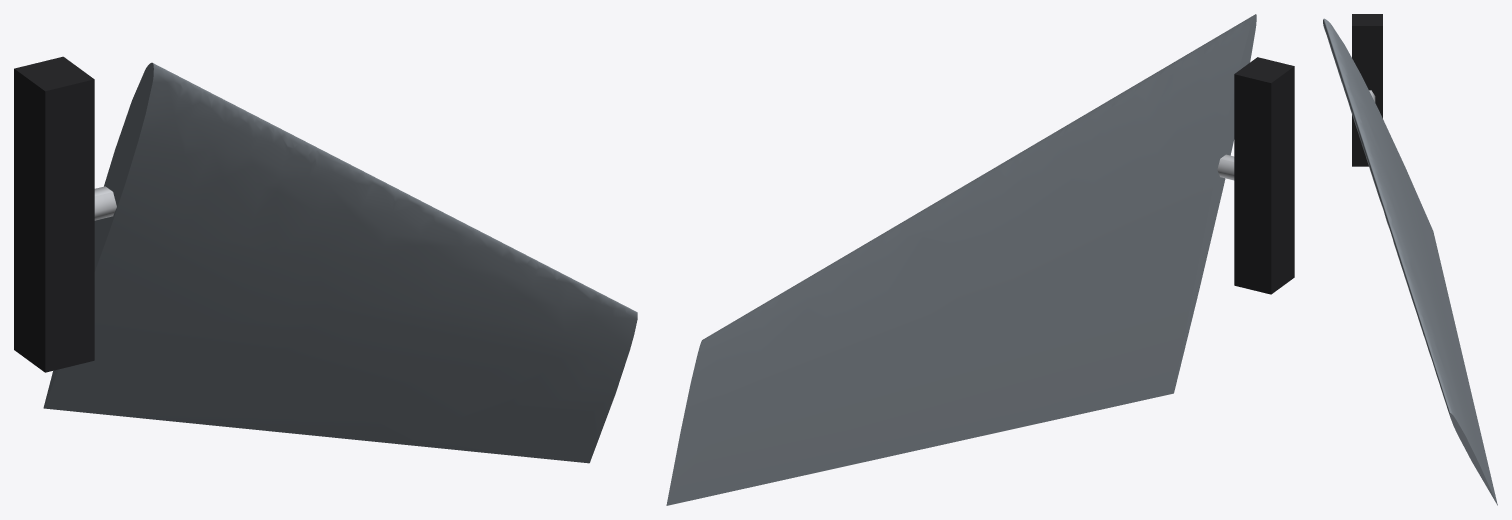
Rendered from jet09_control_surface_canard_m_defl_pos.glb.
3 views of the same model, side by side, from view 1: azimuth 30°, elevation 25°; view 2: azimuth 150°, elevation 25°; view 3: azimuth 270°, elevation 25° (orthographic). The views are drawn at different scales.
Parts seen in each view (by area): view 1: surface, root_housing; view 2: surface, root_housing; view 3: surface, root_housing.
Boxes of the visible parts, x1,y1,x2,y2 form: surface: (43,62,637,463); root_housing: (14,56,94,372); surface: (666,14,1256,505); root_housing: (1234,57,1294,294); surface: (1323,18,1497,505); root_housing: (1352,14,1382,166).
Bounding box in the file's own units: 2.46 × 2.31 × 1.08.
Materials: 3 (1 with a texture image).
